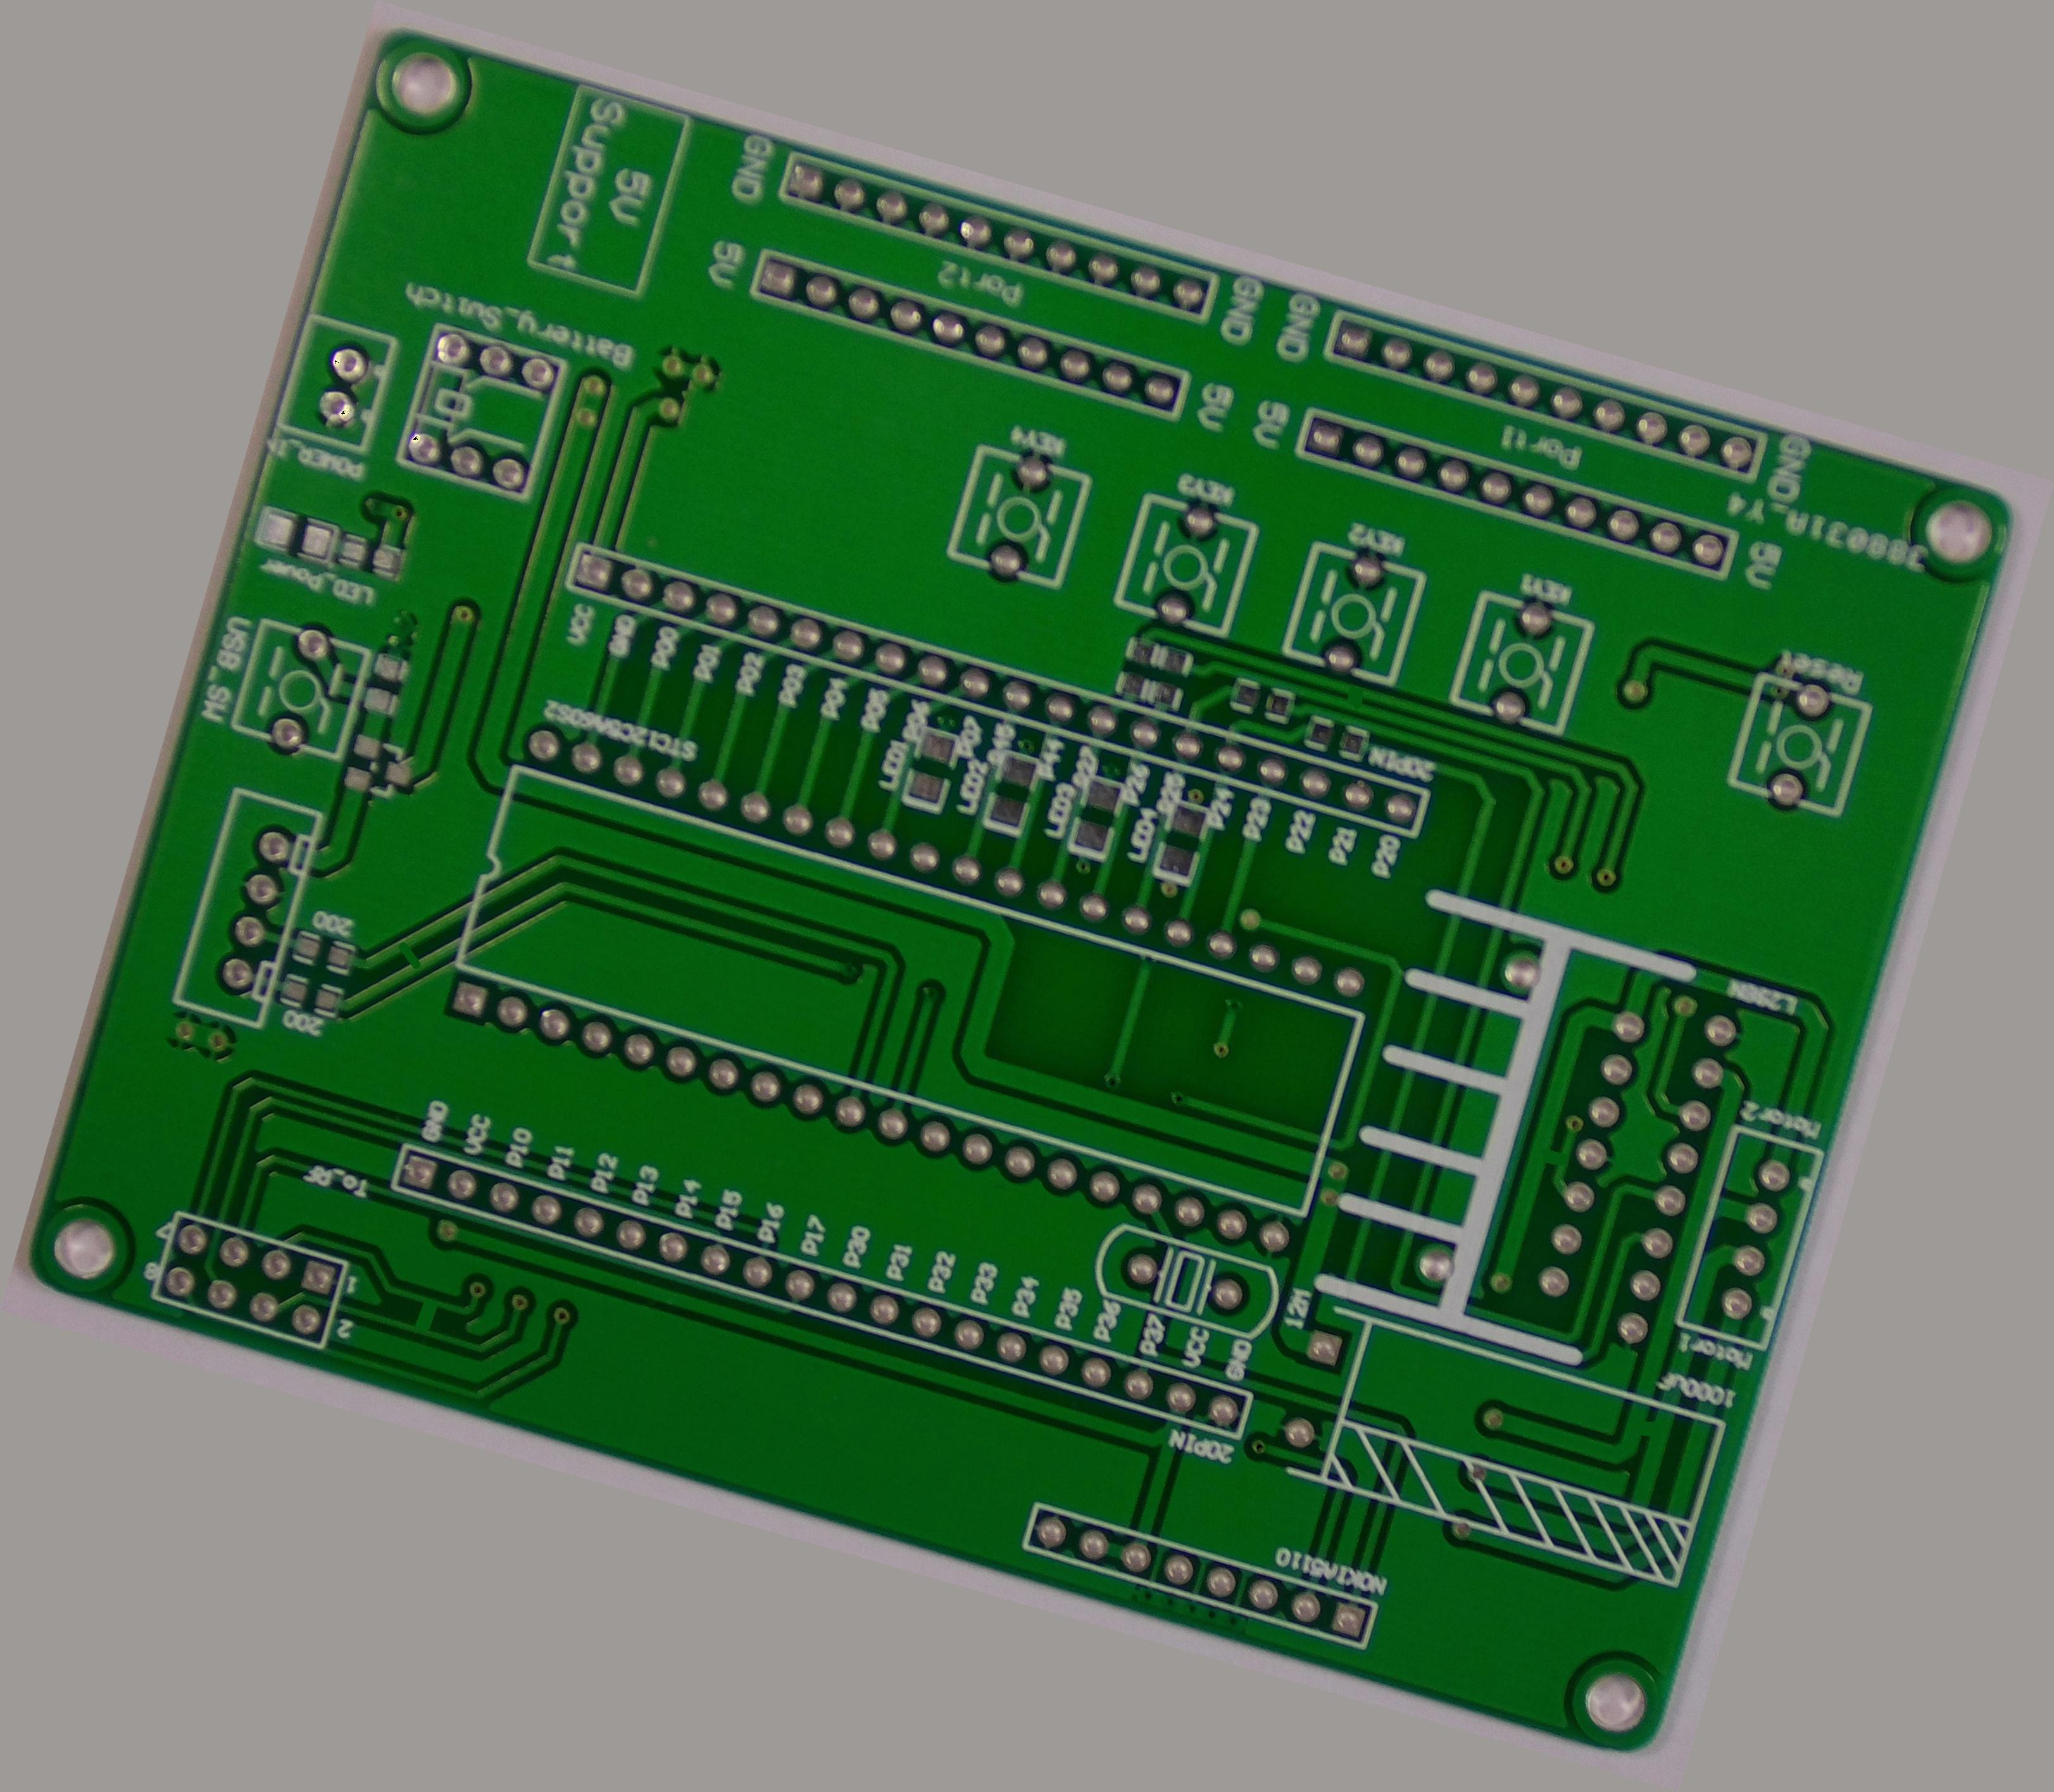short: (391, 1282, 459, 1348), (376, 927, 440, 985), (1320, 669, 1385, 725), (1619, 1396, 1677, 1457), (1520, 1130, 1577, 1188)
